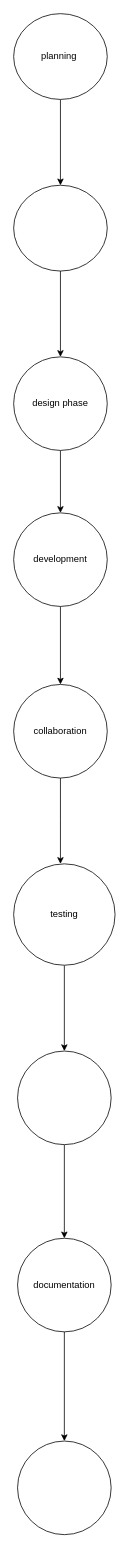
Some shapes in this 129 by 1548 pixel diagram are drawn without their labels. Each missing label, with the centre of its shape:
"deployment" belongs at [64,1097].
"review" belongs at [64,1487].
"setup phase" belongs at [60,227].
